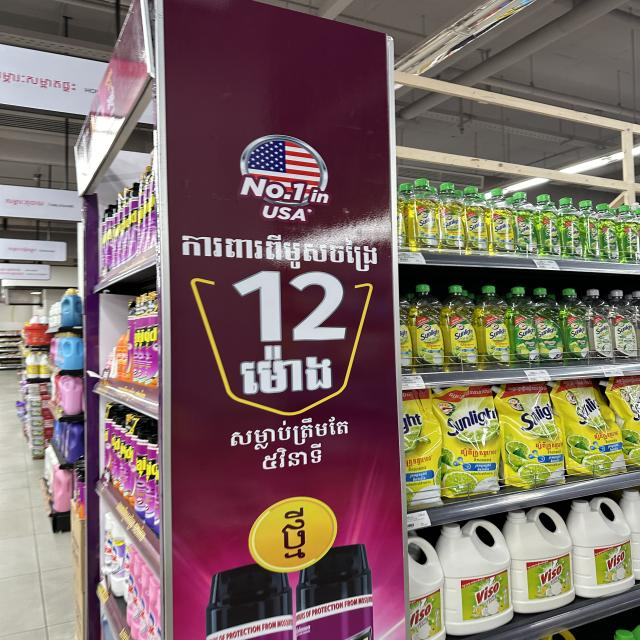Yolov11kh: (225, 274, 357, 350), (173, 230, 383, 277), (221, 346, 344, 400), (217, 410, 354, 453), (270, 504, 312, 567), (254, 443, 329, 478)
